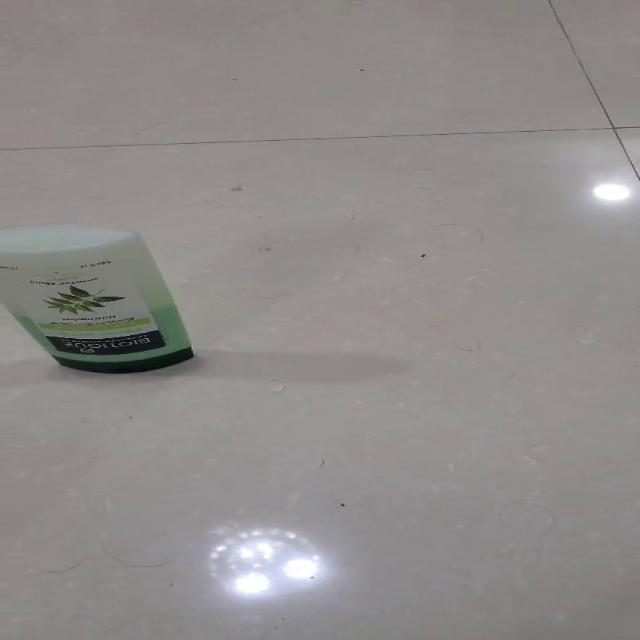plastic: (0, 223, 194, 373)
